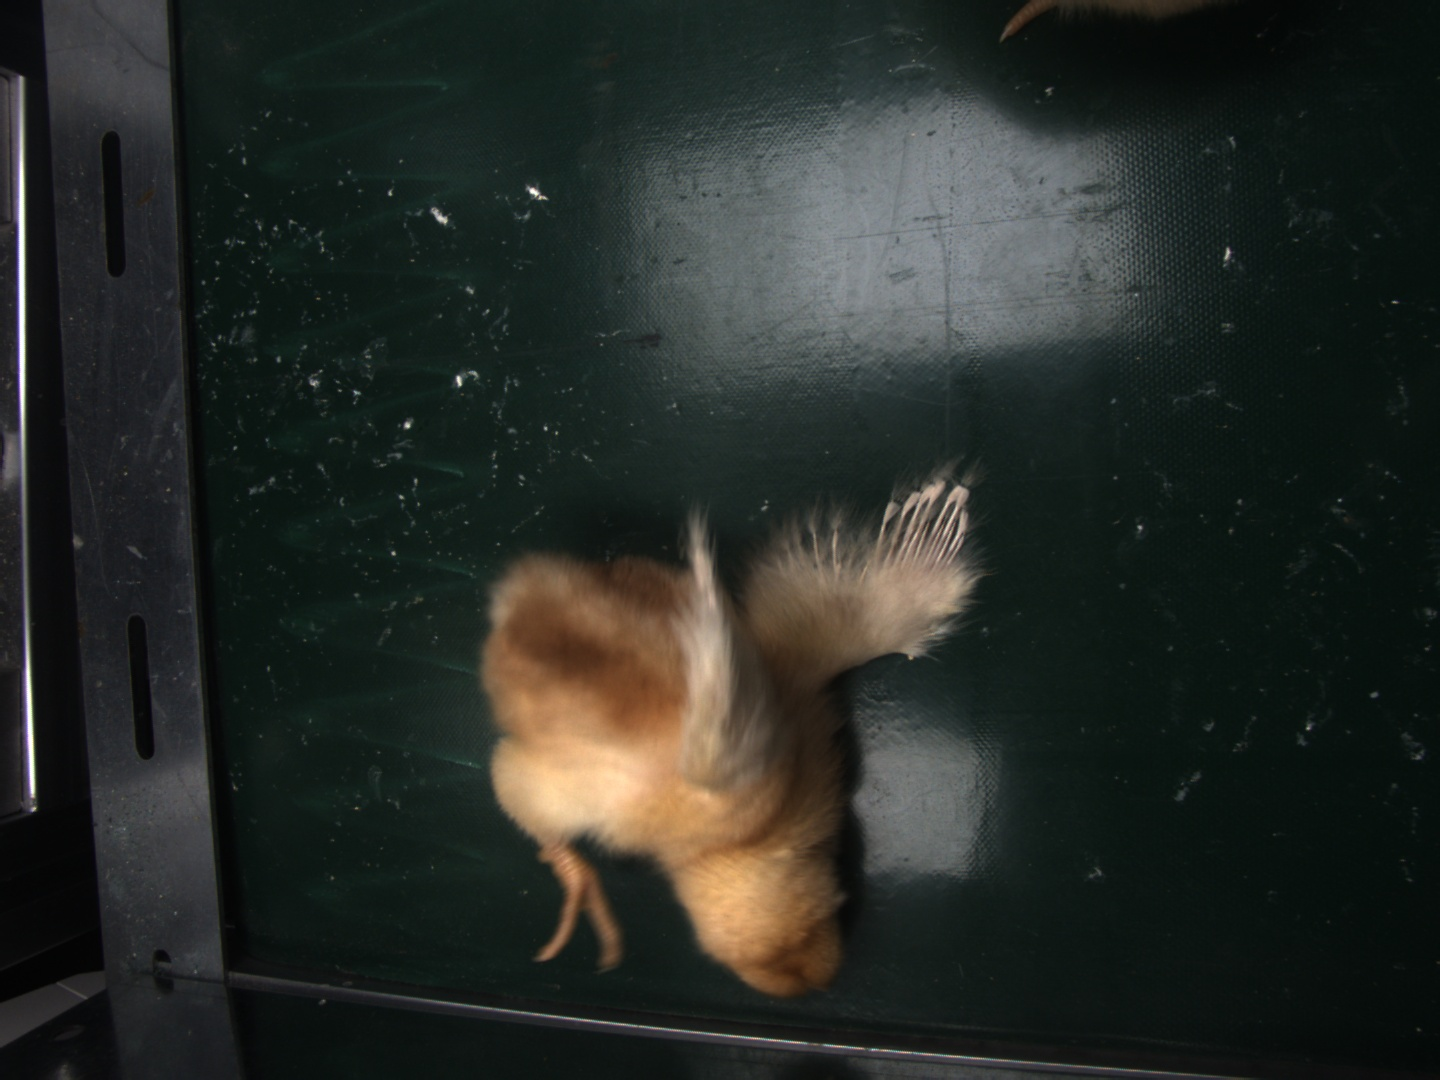female: (886, 480, 975, 559)
